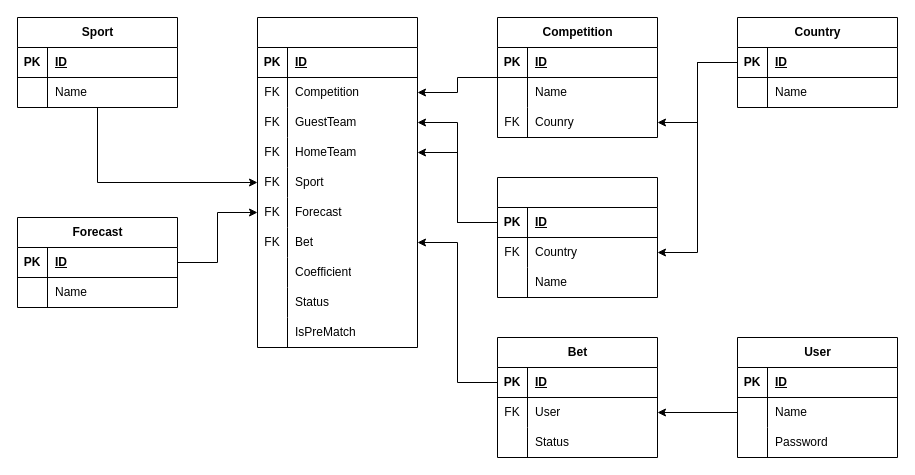
Some shapes in this 915 by 475 pixel diagram are drawn without their labels. The shapes that lost their labels are listed below. From the top down, each one's box as (x1, y1, x2, y2) in pixels, then its label:
(256, 16, 418, 348): Event
(496, 176, 658, 298): Team
